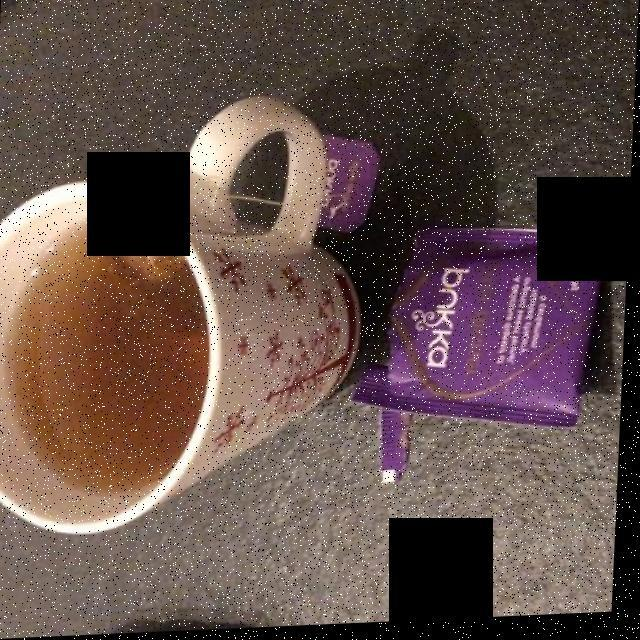tea: (11, 217, 204, 493)
